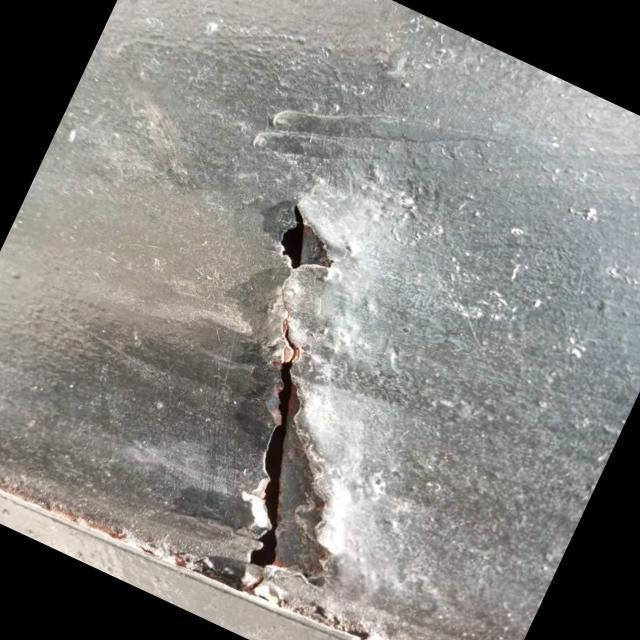defect: (234, 199, 334, 592)
